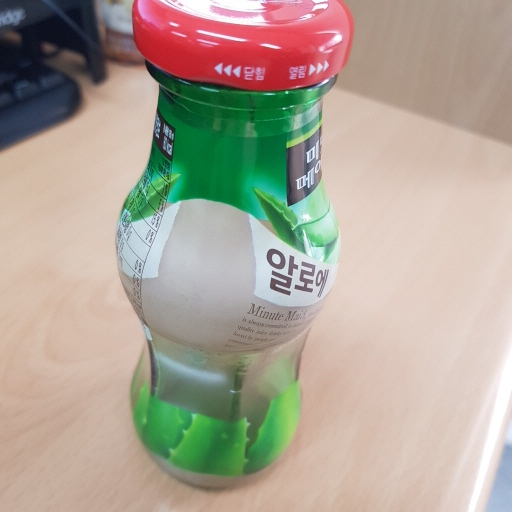Glass_4: (104, 1, 355, 490)
